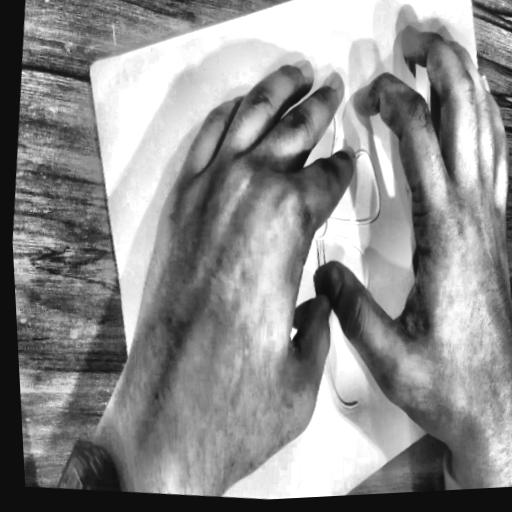bottom_right: (494, 368, 506, 384)
flower: (206, 59, 425, 479)
top_left: (85, 59, 98, 75)
